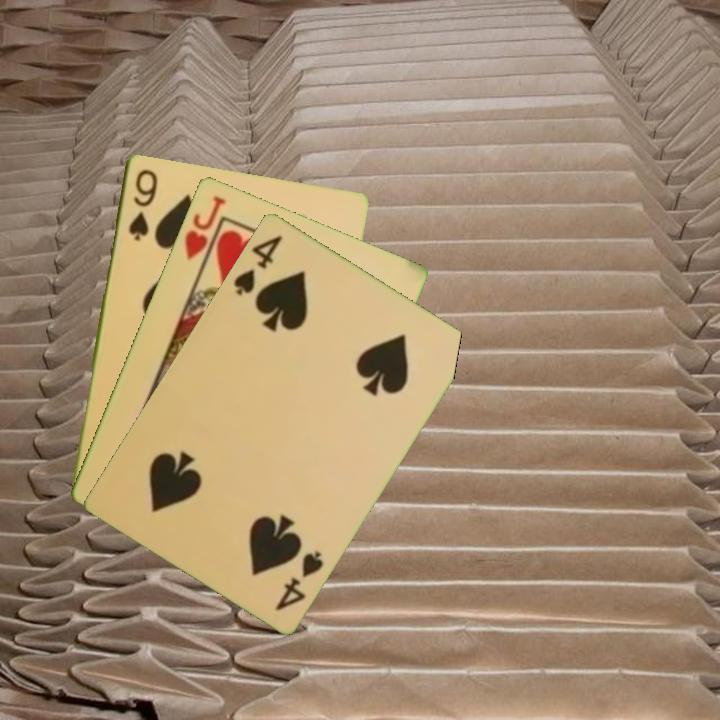4s: (229, 230, 286, 298), (271, 547, 327, 613)
9s: (124, 165, 160, 243)
Jh: (180, 191, 229, 274)
